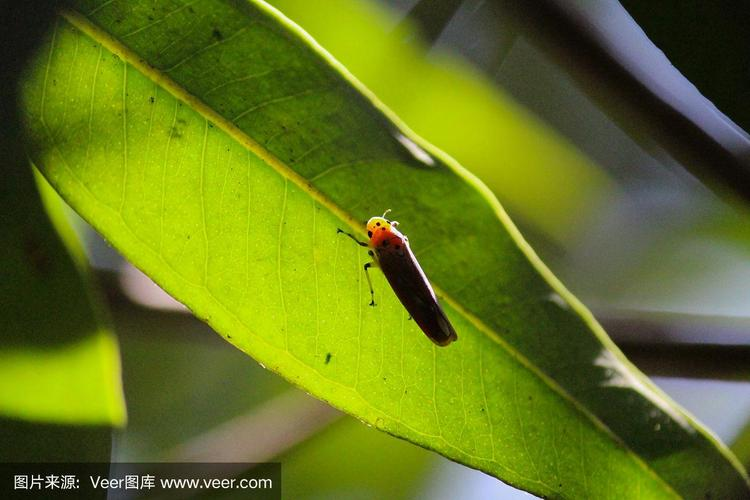Cicadellidae: (339, 216, 459, 347)
